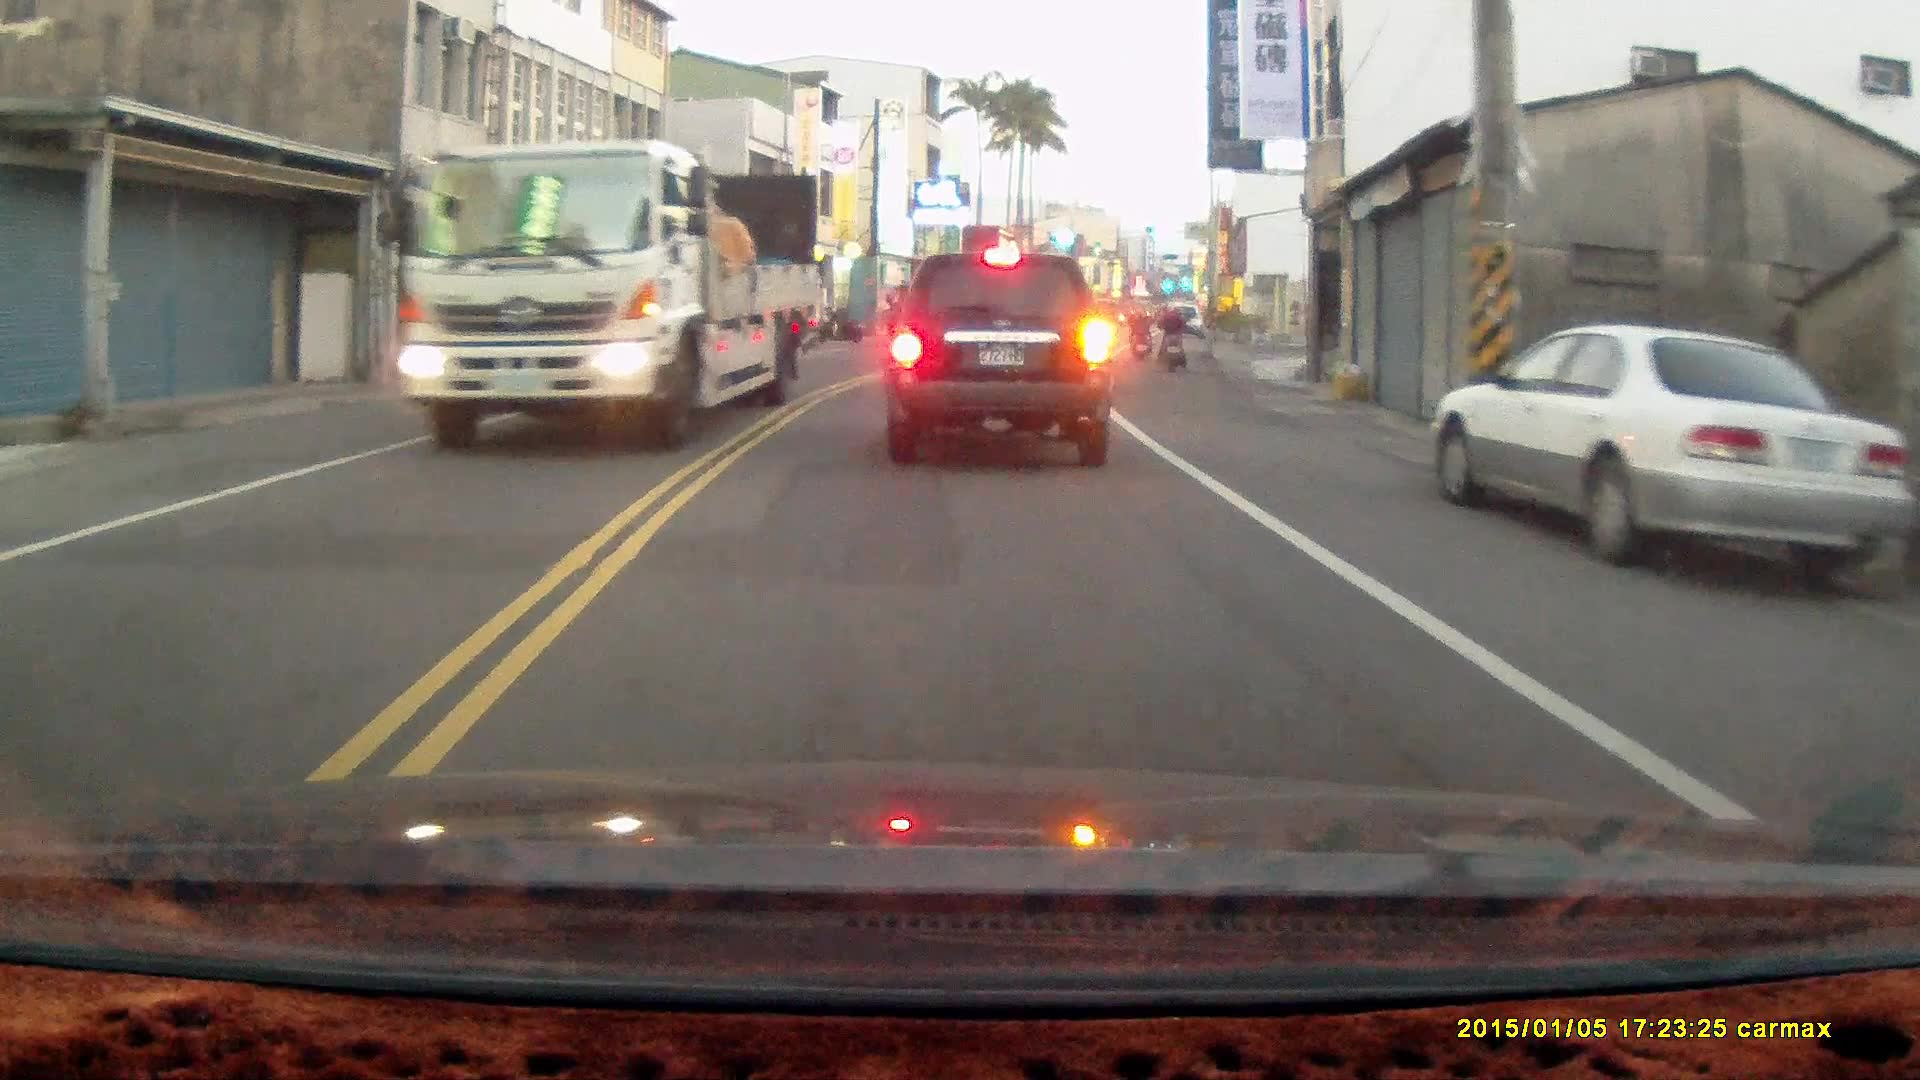rider: (1156, 295, 1187, 374), (1124, 299, 1148, 359)
vehicle: (391, 143, 826, 442), (1433, 320, 1901, 582), (883, 248, 1117, 466)
